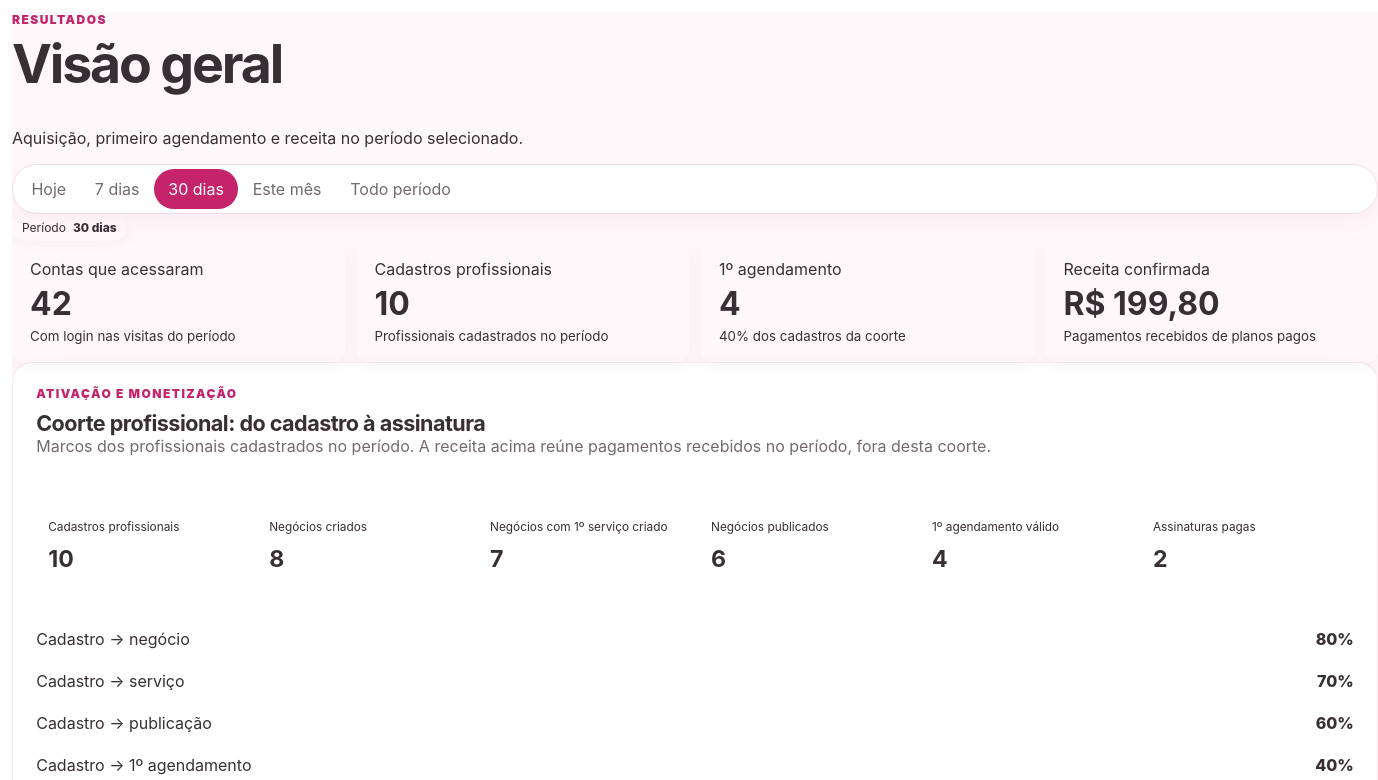
Test: visão geral administrativa v2 › mantém os últimos dados válidos identificados quando a atualização falha
This screenshot has width=1378, height=780.
Expected: the text "42" is shown, [30,284,72,323]
Click the button "7 dias" at [117, 189], box [80,169,154,209]
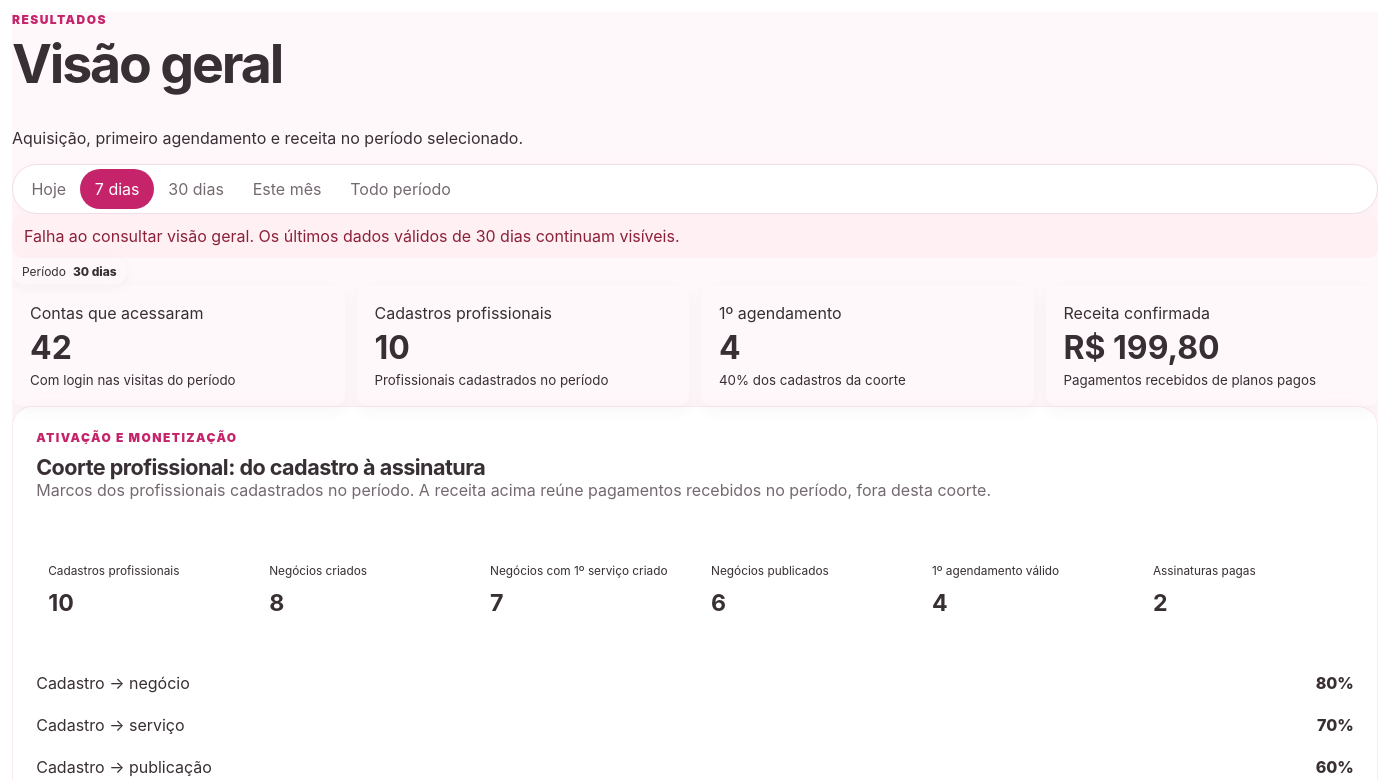
Expected: the text "42" is shown, [30,328,72,367]
Result: the message shows "últimos dados válidos" at [254,226,476,246]
Result: the message shows "30 dias" at [476,226,531,246]
